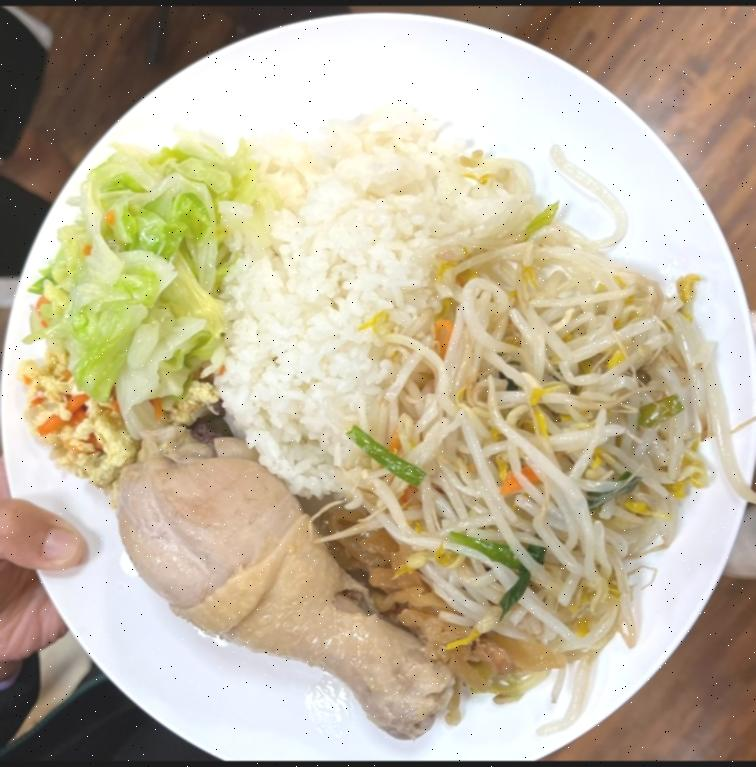big fried chicken leg: (6, 6, 756, 757)
big herbal chicken leg: (205, 110, 538, 490)
braised fish fillet: (373, 234, 703, 669), (58, 135, 229, 394), (18, 354, 132, 494)
braised pork: (116, 431, 446, 741)
